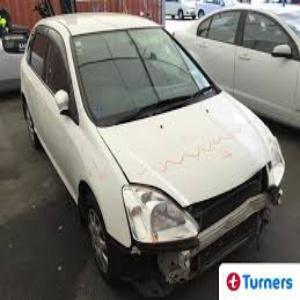bumper: (126, 241, 208, 295)
